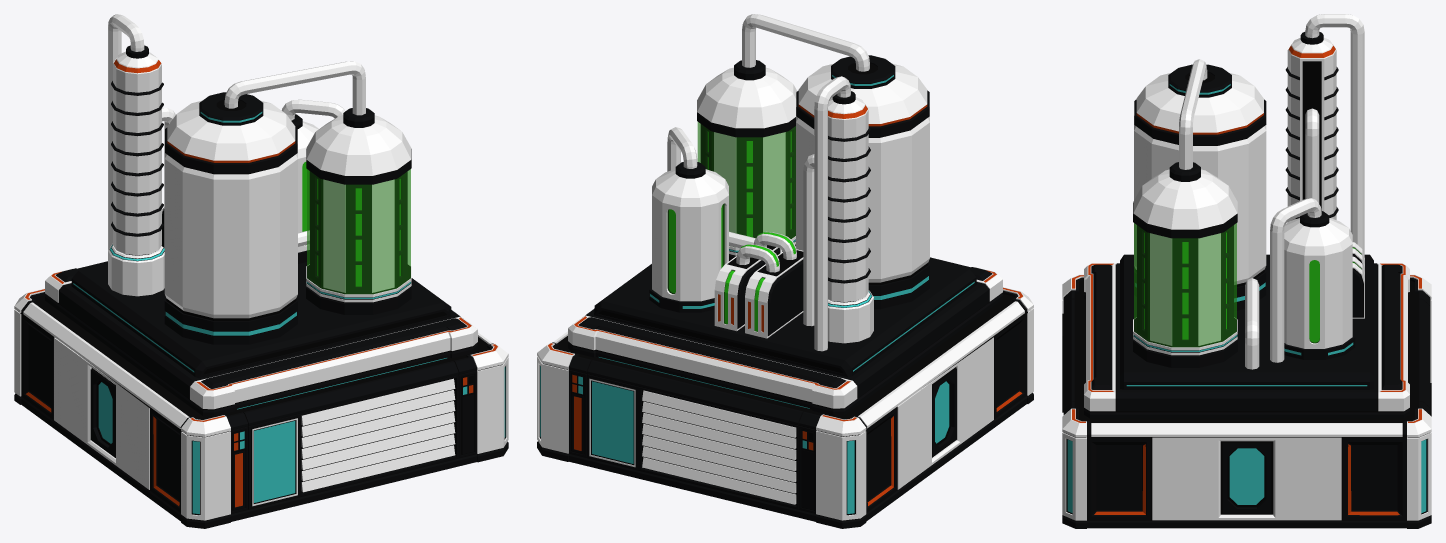
Rendered from SM_BioChem_T3.obj.
The picture shows the model from 3 angles, left to right: view 1: azimuth 30°, elevation 25°; view 2: azimuth 150°, elevation 25°; view 3: azimuth 270°, elevation 25°; orthographic projection.
Parts seen in each view (by area): view 1: SM_BioChem_T3; view 2: SM_BioChem_T3; view 3: SM_BioChem_T3.
Boxes of the visible parts, <box> form: SM_BioChem_T3: <box>14,14,508,528</box>; SM_BioChem_T3: <box>537,14,1033,528</box>; SM_BioChem_T3: <box>1062,14,1431,528</box>.
Size of the model in its own units: 3 by 3.52 by 3.
